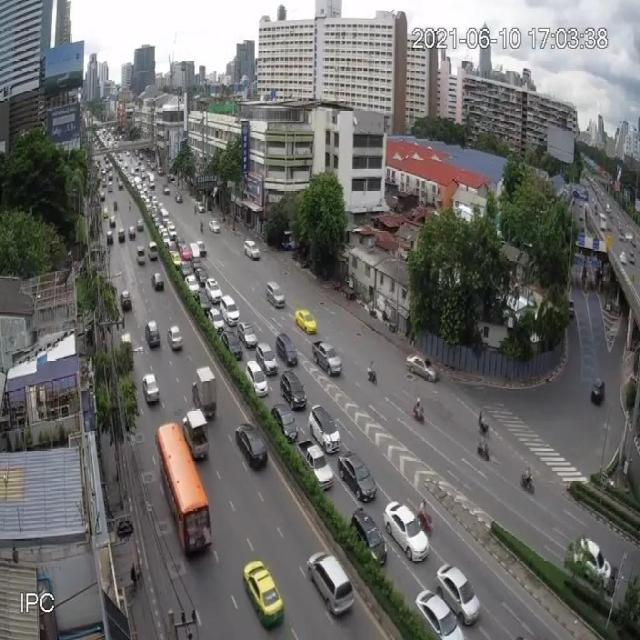Bus: (158, 423, 213, 557)
Car: (308, 549, 355, 622), (243, 559, 285, 629), (435, 562, 480, 626), (384, 500, 429, 561), (414, 588, 465, 640), (350, 507, 387, 567), (338, 451, 378, 502), (572, 537, 612, 588), (298, 438, 334, 492), (235, 422, 270, 470), (308, 404, 341, 452), (279, 369, 307, 409), (271, 402, 299, 441), (312, 341, 342, 377), (406, 354, 438, 383), (246, 360, 270, 397), (276, 331, 300, 367), (255, 342, 278, 376), (219, 328, 243, 359), (220, 294, 239, 326), (295, 308, 317, 335), (237, 320, 258, 348), (142, 372, 160, 404), (266, 281, 286, 308), (207, 306, 224, 334), (205, 278, 222, 305), (145, 320, 161, 348), (196, 288, 213, 314), (167, 325, 183, 351), (591, 378, 605, 404), (185, 275, 200, 299), (244, 239, 260, 260), (193, 266, 208, 286), (120, 332, 132, 354), (151, 272, 164, 292), (180, 260, 193, 280), (120, 290, 132, 310), (189, 242, 202, 260), (196, 239, 207, 257), (171, 252, 182, 270), (281, 238, 296, 251), (136, 246, 146, 265), (181, 245, 192, 262), (208, 219, 220, 234), (148, 240, 158, 258), (167, 232, 177, 250), (567, 298, 574, 318), (106, 228, 114, 245), (196, 202, 206, 214), (620, 251, 628, 265), (136, 217, 144, 231), (129, 224, 136, 239), (118, 227, 125, 242), (599, 213, 607, 226), (600, 220, 608, 232), (109, 214, 116, 227), (624, 233, 633, 243), (102, 206, 109, 218), (175, 194, 183, 204), (618, 225, 625, 236), (163, 185, 170, 195), (582, 202, 588, 212), (168, 174, 175, 182), (100, 190, 105, 201), (606, 203, 611, 213), (118, 179, 123, 189), (607, 223, 613, 231)
Truck: (181, 407, 210, 460), (192, 366, 216, 416)
